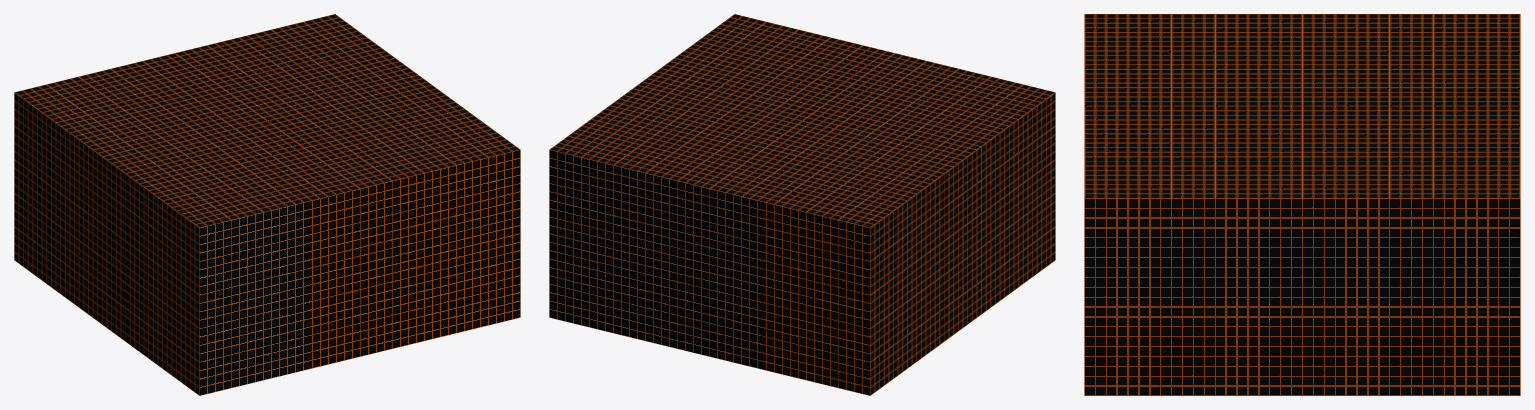
The model's file is menu_bg.FBX.
3 views of the same model, side by side, from view 1: azimuth 30°, elevation 25°; view 2: azimuth 150°, elevation 25°; view 3: azimuth 270°, elevation 25° (orthographic). The views are drawn at different scales.
Visible parts, largest first — view 1: Box001; view 2: Box001; view 3: Box001.
Part boxes in pixels (x1,y1,x2,y2): Box001: (14,14,520,395); Box001: (549,14,1055,395); Box001: (1084,14,1520,395).
Bounding box in the file's own units: 50 × 25 × 50.
